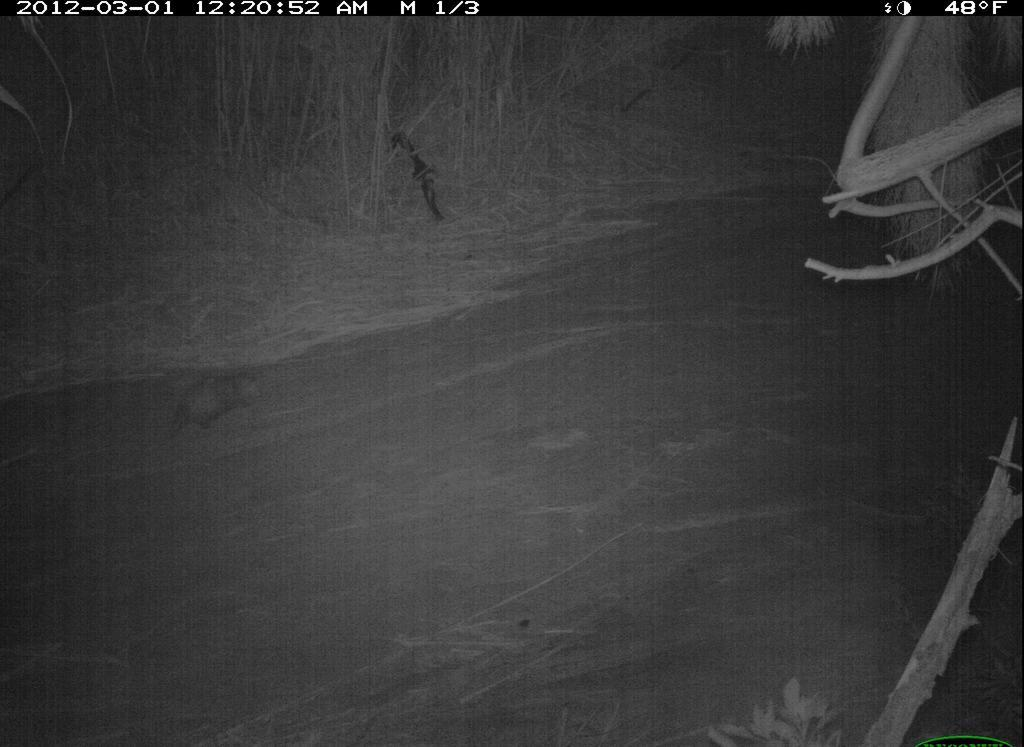opossum: (152, 364, 276, 454)
